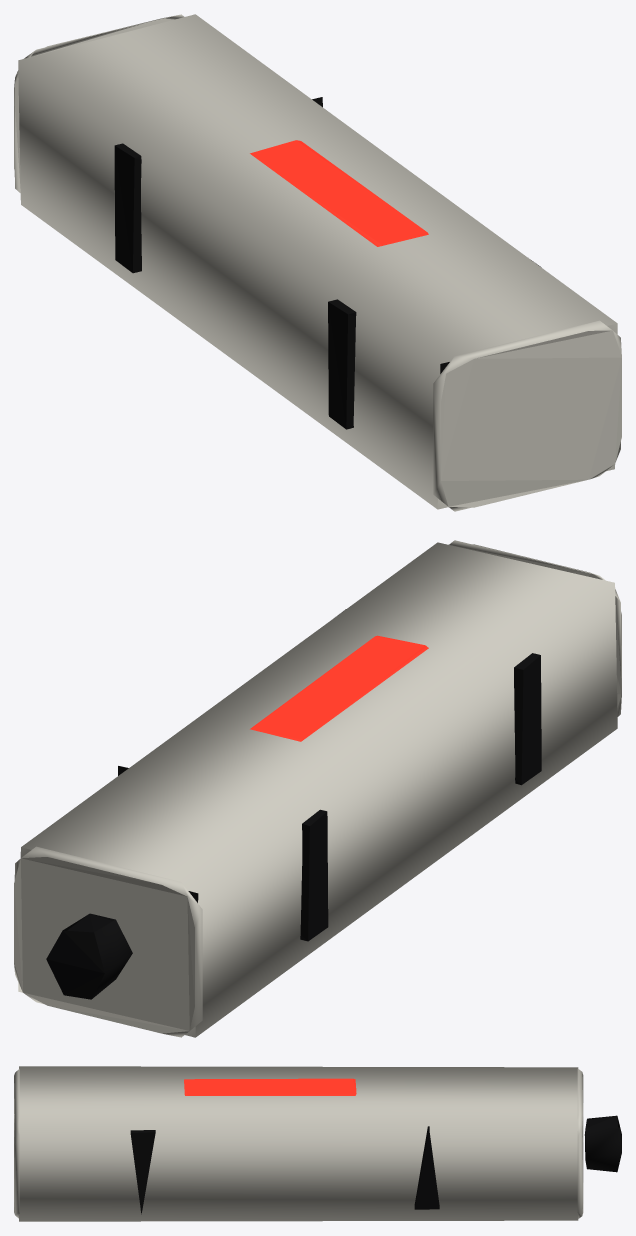
File: module_2_battery_pack.glb
3 renders of one model, top to bottom at view 1: azimuth 30°, elevation 25°; view 2: azimuth 150°, elevation 25°; view 3: azimuth 270°, elevation 25°, orthographic. The views are drawn at different scales.
Parts seen in each view (by area): view 1: module_2_battery_pack; view 2: module_2_battery_pack; view 3: module_2_battery_pack.
Boxes of the visible parts, <box> form: module_2_battery_pack: <box>14,14,621,511</box>; module_2_battery_pack: <box>14,540,621,1037</box>; module_2_battery_pack: <box>14,1066,621,1221</box>.
Bounding box in the file's own units: 0.0309 × 0.0242 × 0.1222.
